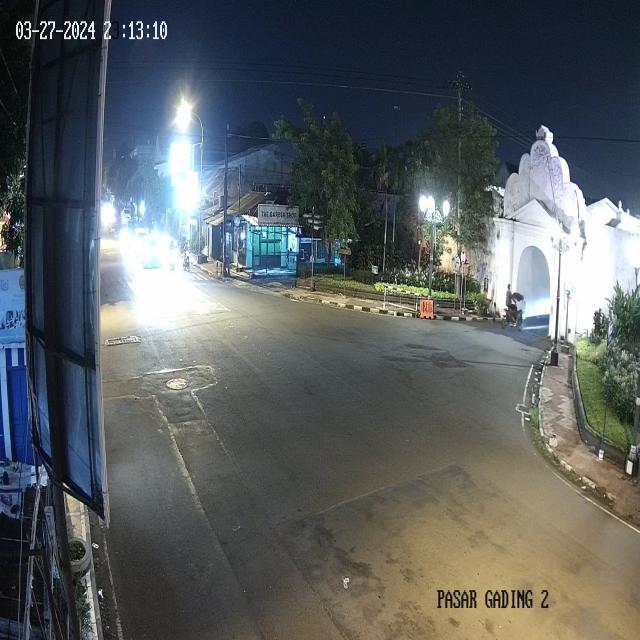car: (141, 232, 163, 270), (132, 227, 148, 259), (121, 205, 133, 223)
motorcycle: (502, 284, 526, 332), (167, 236, 178, 273), (183, 241, 192, 273)
